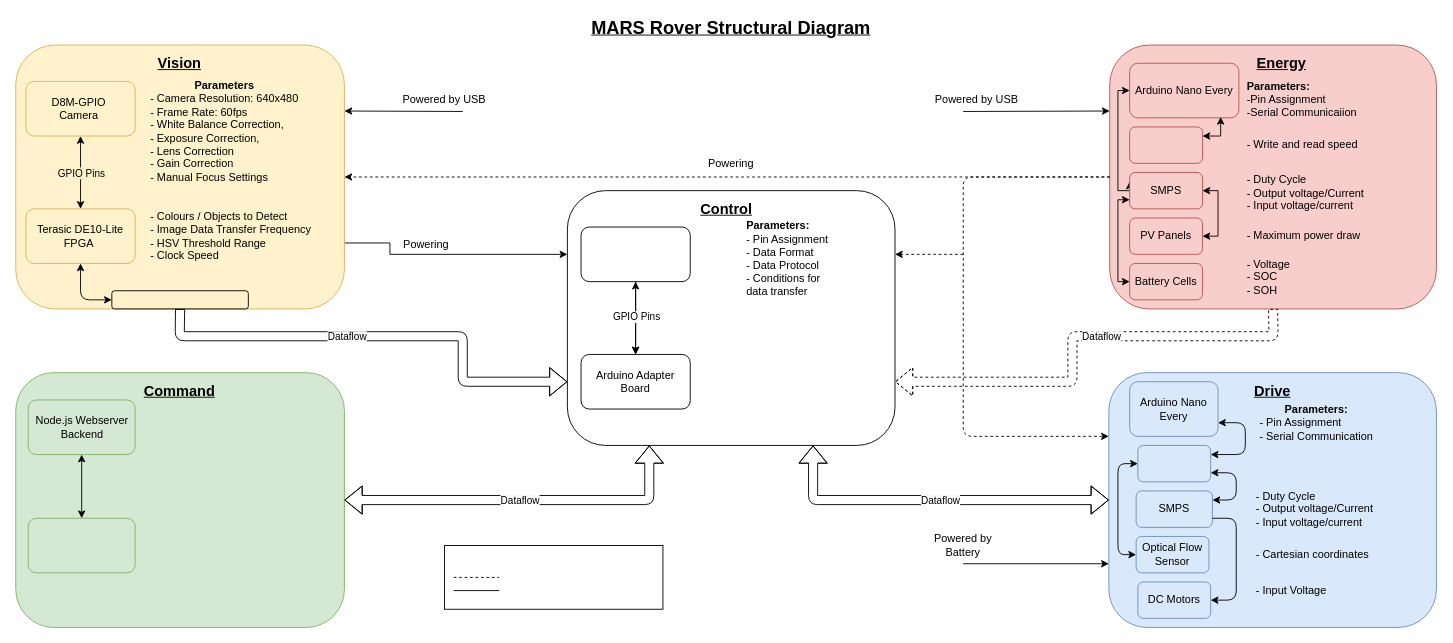
Some shapes in this 1453 by 643 pixel diagram are drawn without their labels. Each missing label, with the box of its shape:
Arduino Uno R3 Connector: (111, 290, 248, 309)
ESP32: (580, 226, 690, 282)
H-bridge: (1137, 445, 1211, 482)
Legend Theoretical Connections Actual Connections: (444, 545, 663, 609)
React Website Frontend: (27, 517, 135, 573)
SD-Card: (1129, 126, 1202, 163)
